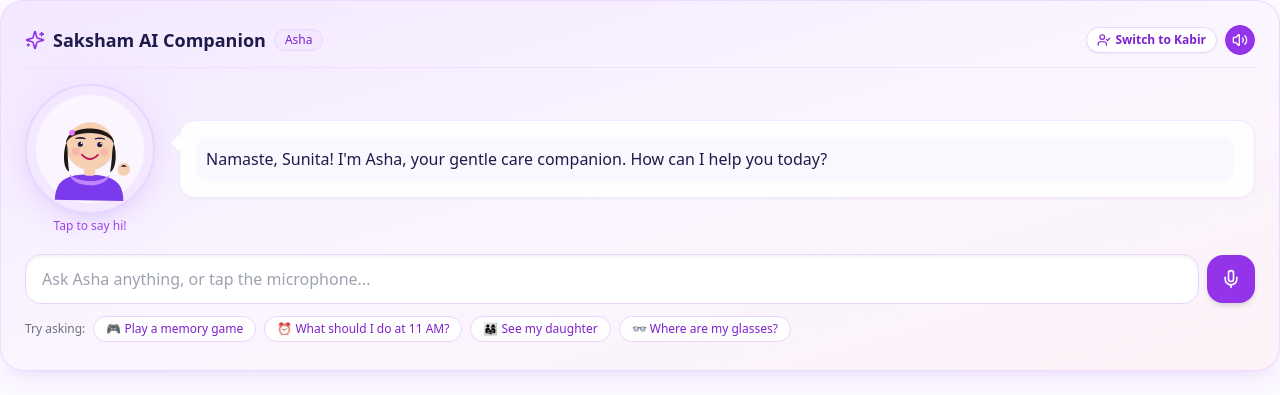
Test: AICompanion Component & Safe Navigation Dispatcher › allows user to switch between Asha and Kabir
The image size is (1280, 395).
Click the button titled "Switch companion character".
click(1152, 40)  # box [1086, 27, 1217, 53]
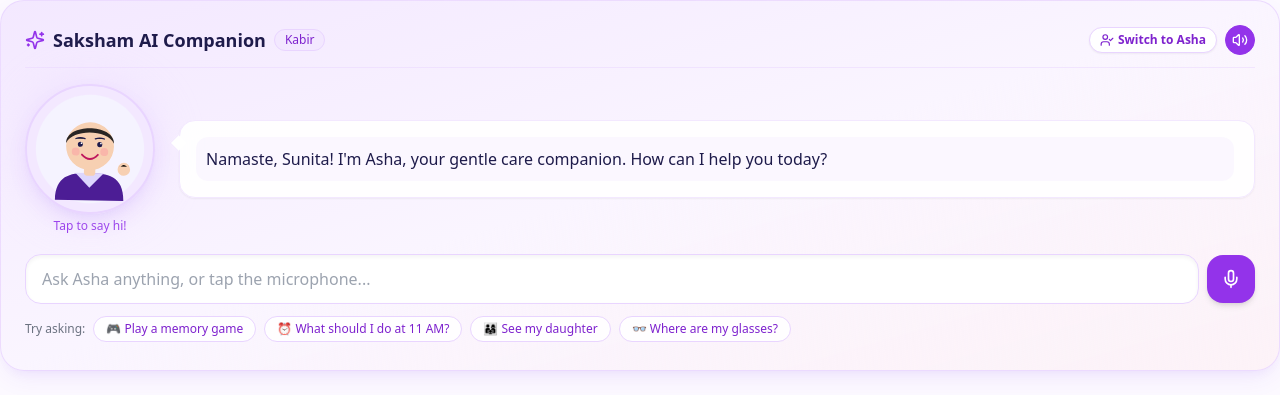
Now the button titled "Switch companion character" reads "Switch to Asha", box [1089, 27, 1217, 53]
